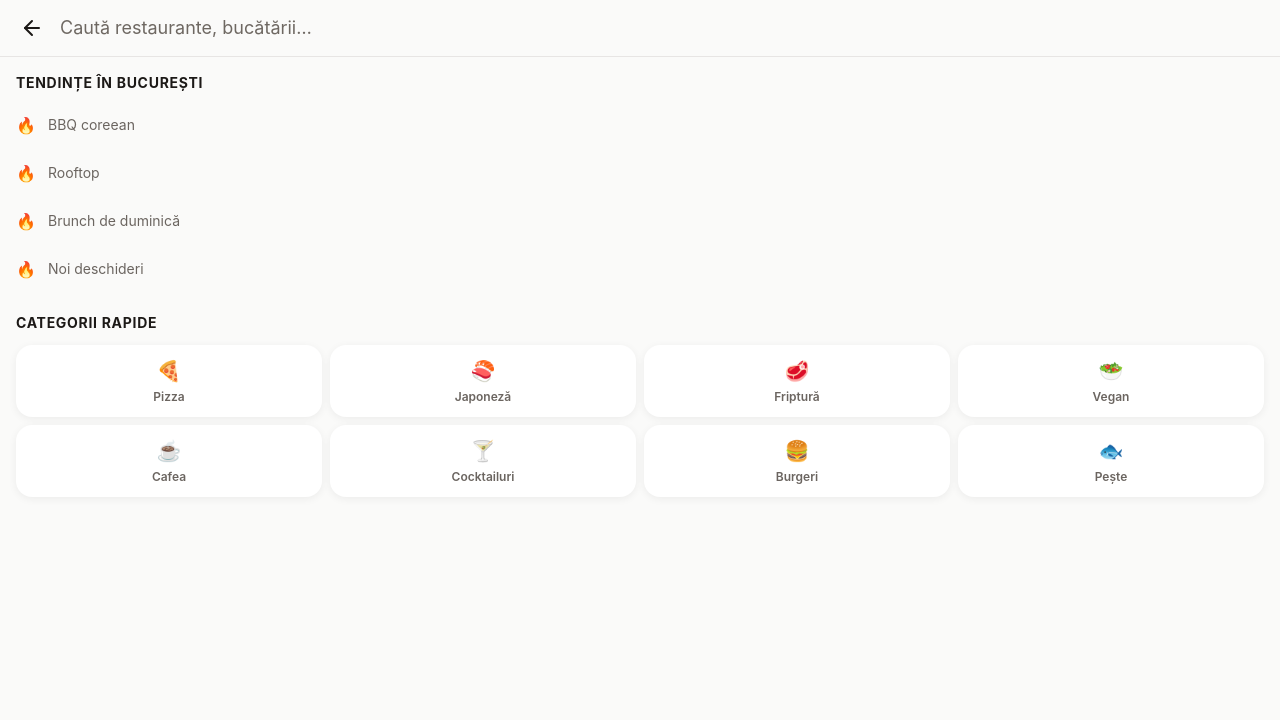
Test: SearchOverlay › renders cuisine results for a query
Type "Italian" into the field with placeholder "Caută restaurante, bucătării…" at (662, 28), box [60, 14, 1264, 42]
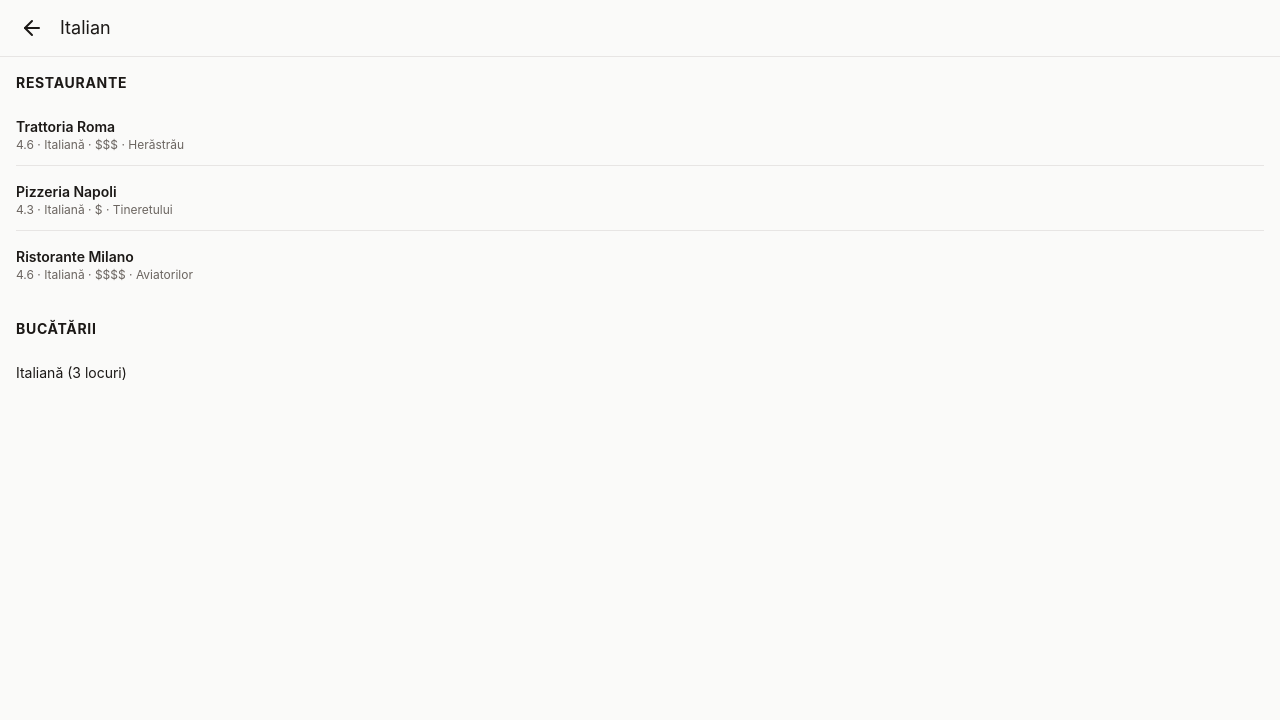
Expected: the heading "Bucătării" is shown, [16, 320, 97, 337]
Expected: the text "Italiană (3 locuri)" is shown, [16, 363, 127, 383]
